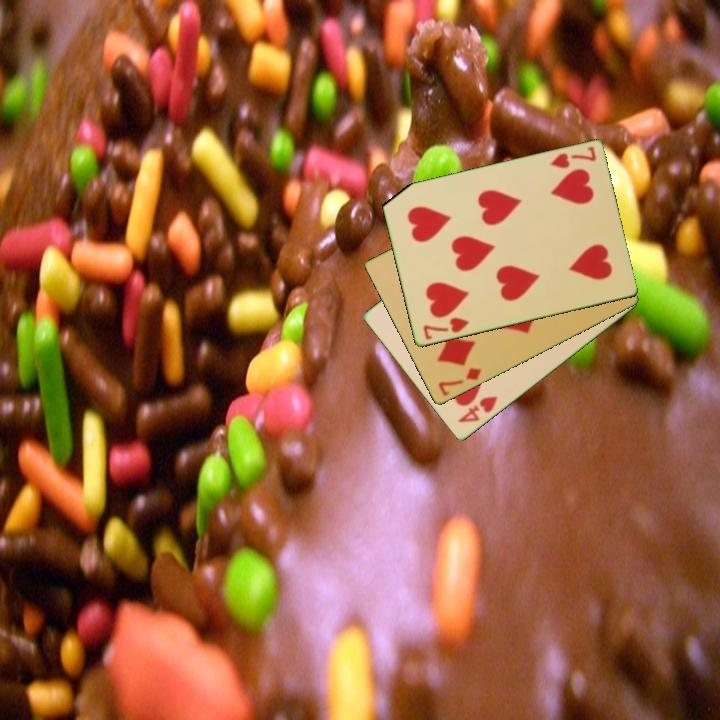4h: (454, 392, 501, 426)
7d: (434, 364, 485, 400)
7h: (419, 314, 472, 343), (546, 143, 599, 172)
